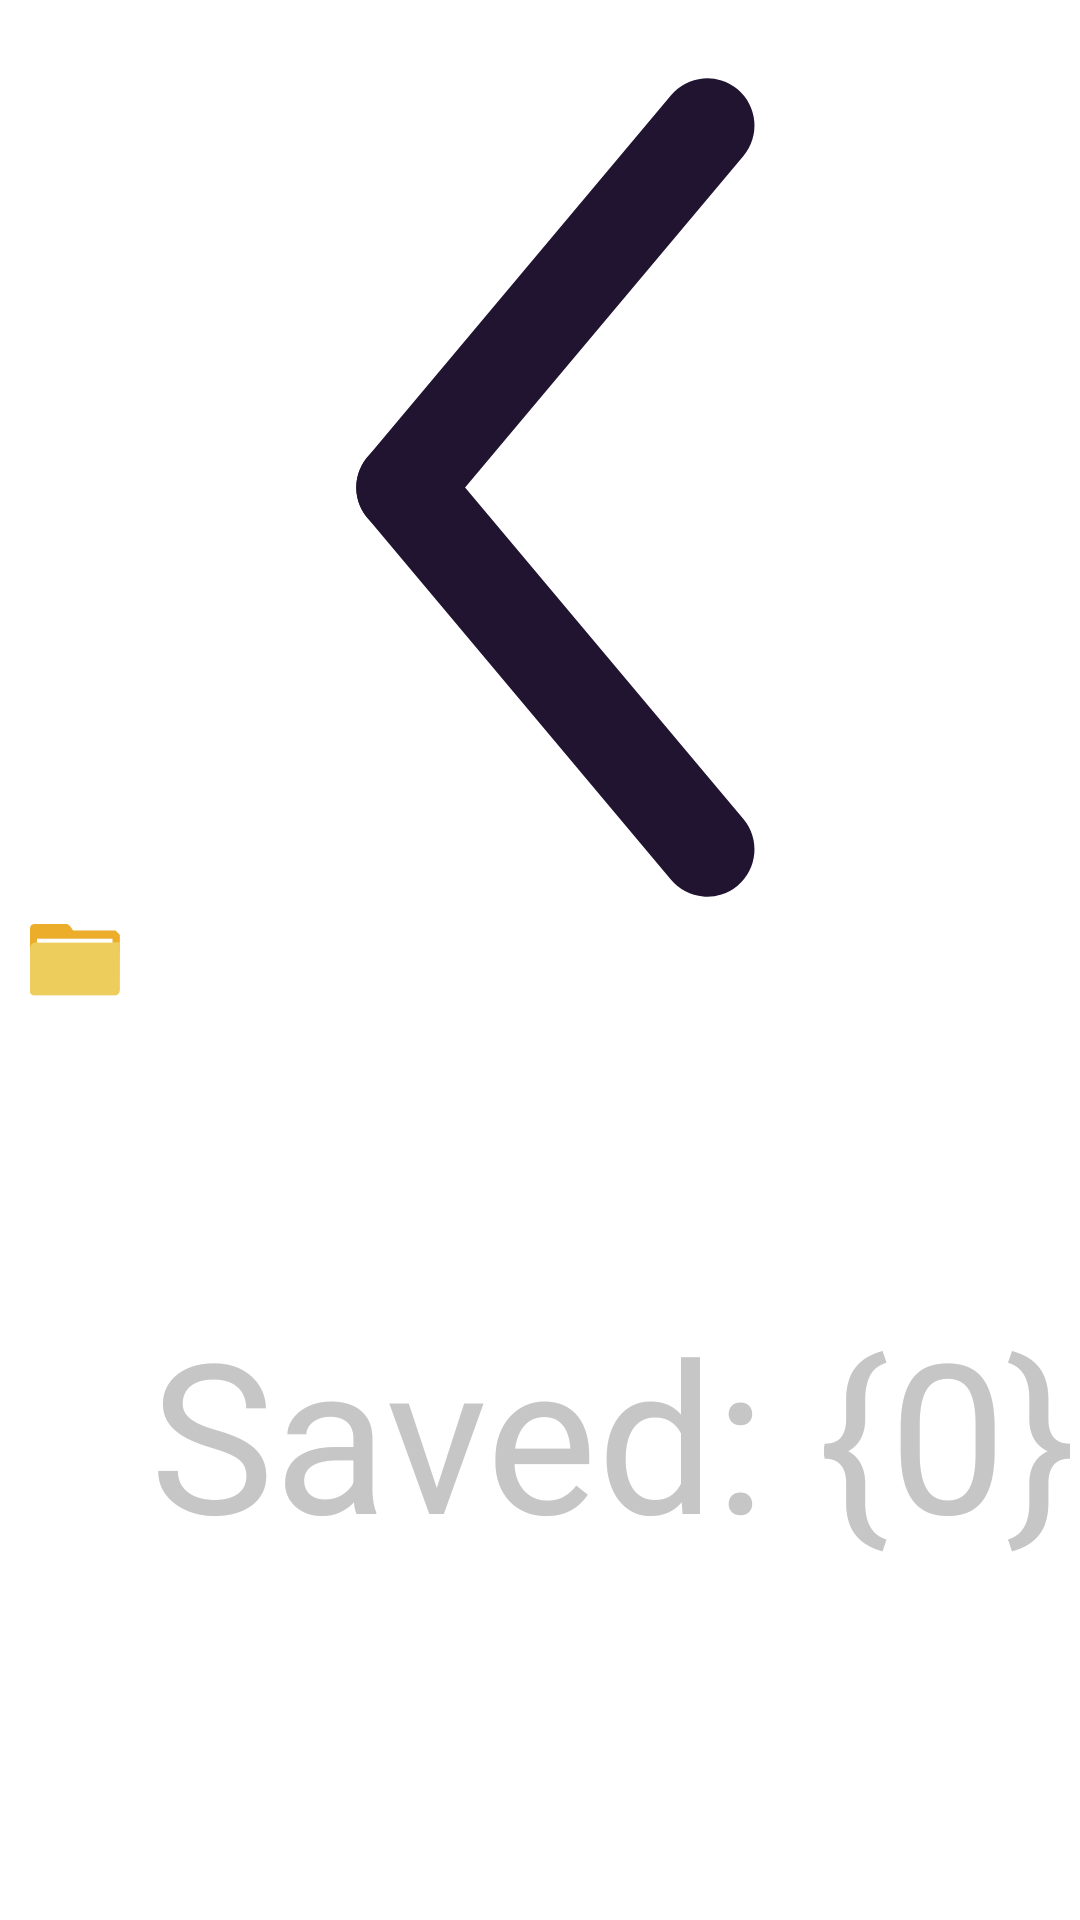

Named icons in this screenshot (1080 x 1920) and their centers, [x,y]:
page file directory: [75,960]
